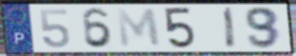5: (164, 6, 198, 50), (38, 8, 72, 49)
6: (81, 6, 114, 50)
9: (243, 5, 283, 50)
I: (222, 6, 238, 50)
M: (115, 7, 163, 49)
